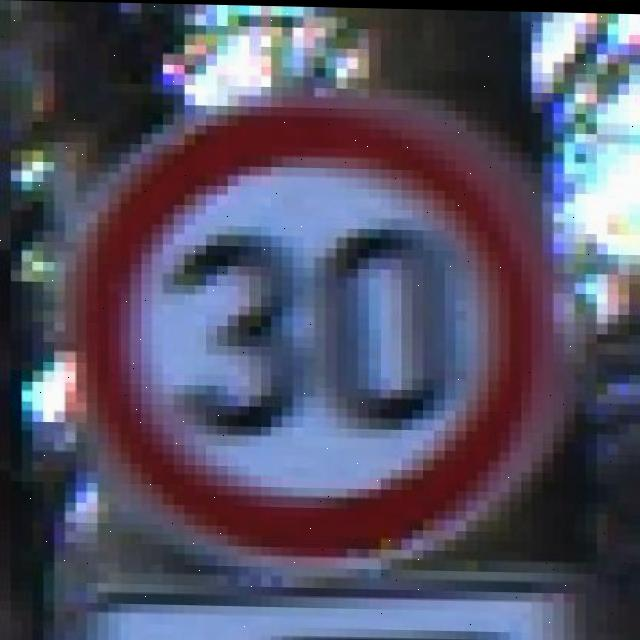Speed limit 30: (80, 93, 563, 566)
